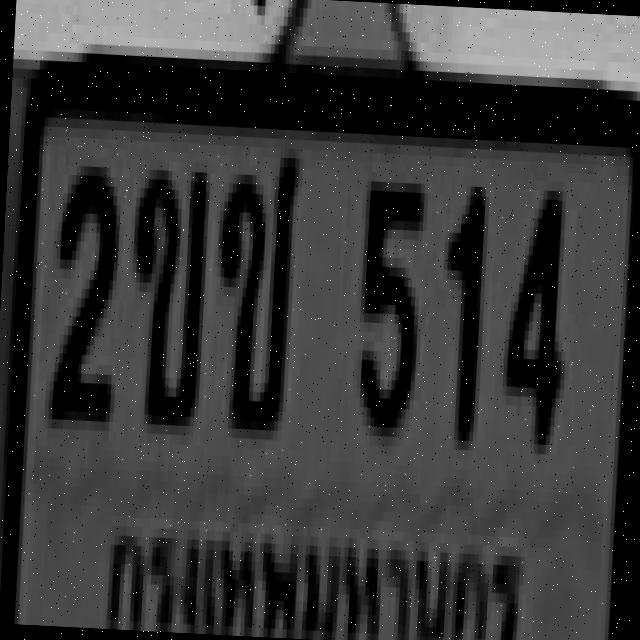1: (435, 172, 483, 436)
11KhorKhai: (125, 156, 208, 412)
19ChorChang: (210, 146, 296, 422)
2: (44, 156, 120, 412)
4: (500, 180, 567, 436)
5: (351, 172, 422, 428)
Bangkok: (97, 506, 529, 640)
